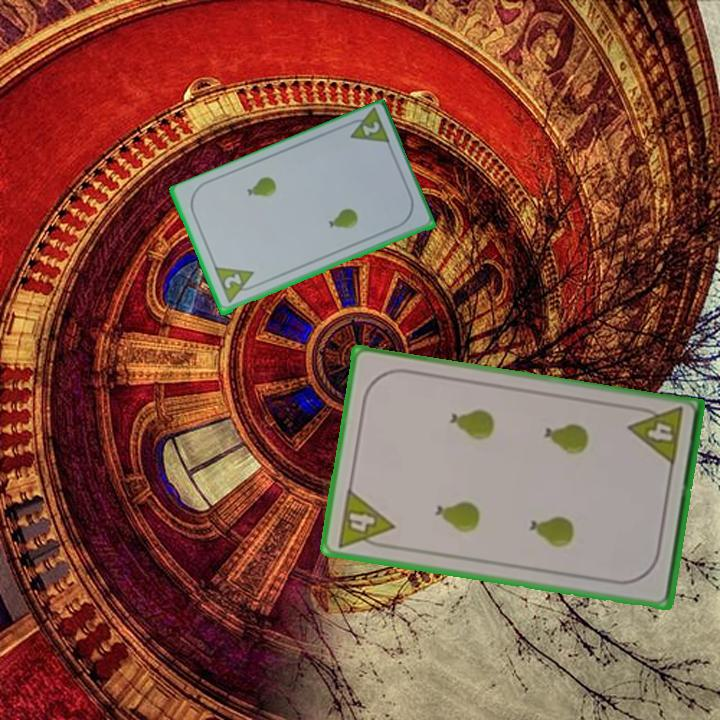2p: (341, 106, 393, 149), (220, 270, 245, 292)
4p: (333, 485, 397, 553), (625, 403, 686, 469)
